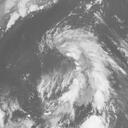cyclone: (37, 28, 112, 100)
